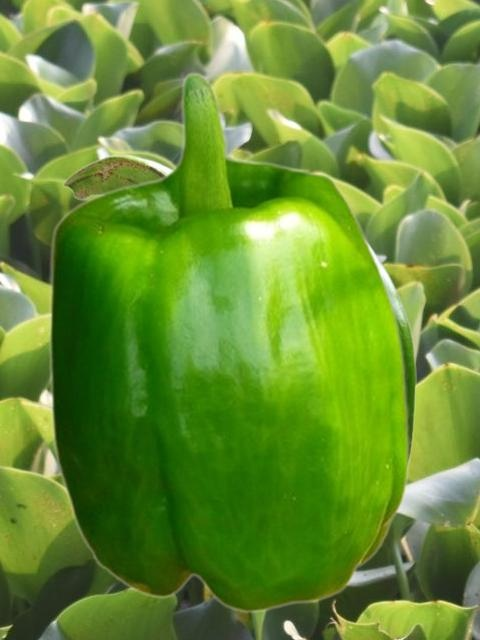bell_pepper: (47, 71, 409, 613), (62, 153, 415, 466)
